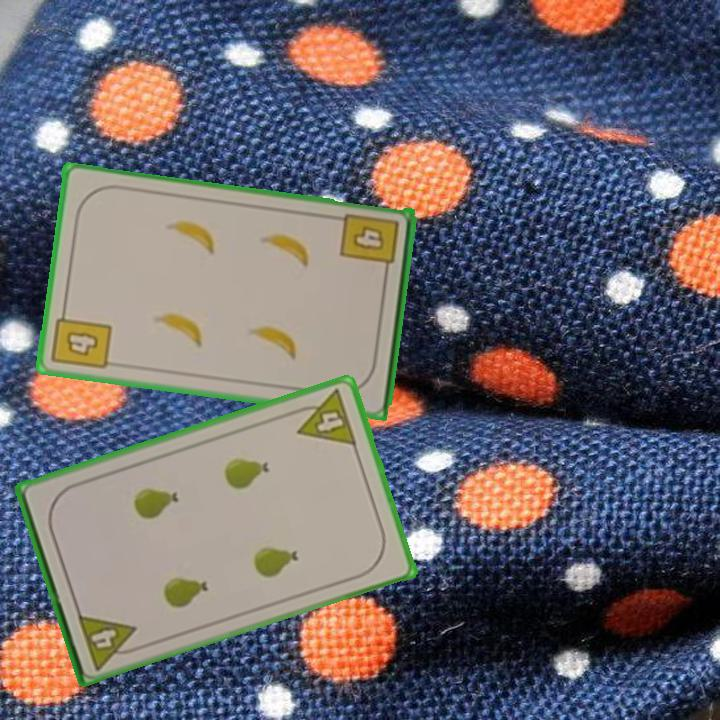4b: (48, 303, 115, 373), (337, 210, 402, 279)
4p: (287, 385, 360, 449), (74, 610, 144, 673)
